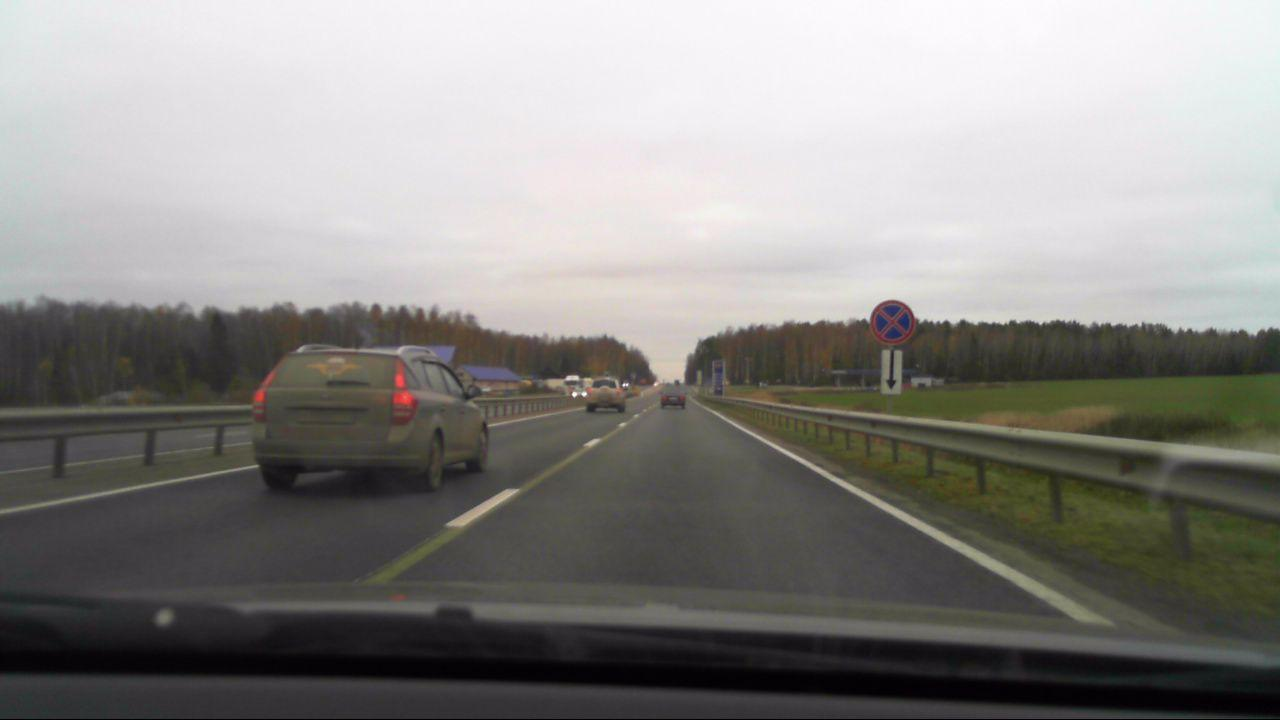3_27: (866, 296, 917, 344)
8_2_3: (879, 349, 904, 396)
